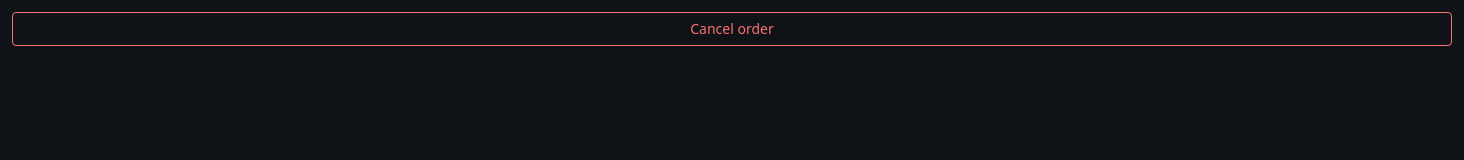
it: CancelOrderAction › offers a visible Cancel order button for a READY_FOR_PICKUP order and sends nothing yet
Click the button "Cancel order".
click(732, 29)  # box [12,12,1452,46]
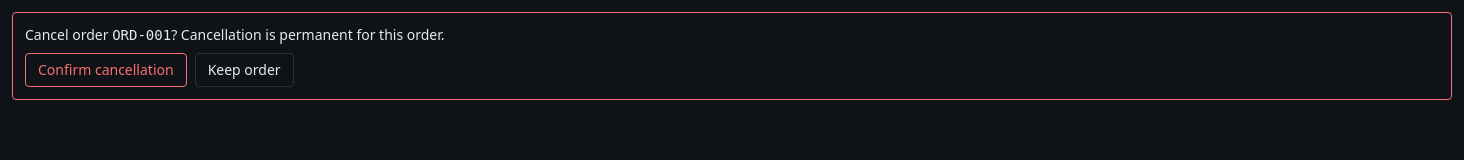
Expected: the element named "Confirm cancellation" shows "permanent", [171,25,444,44]
